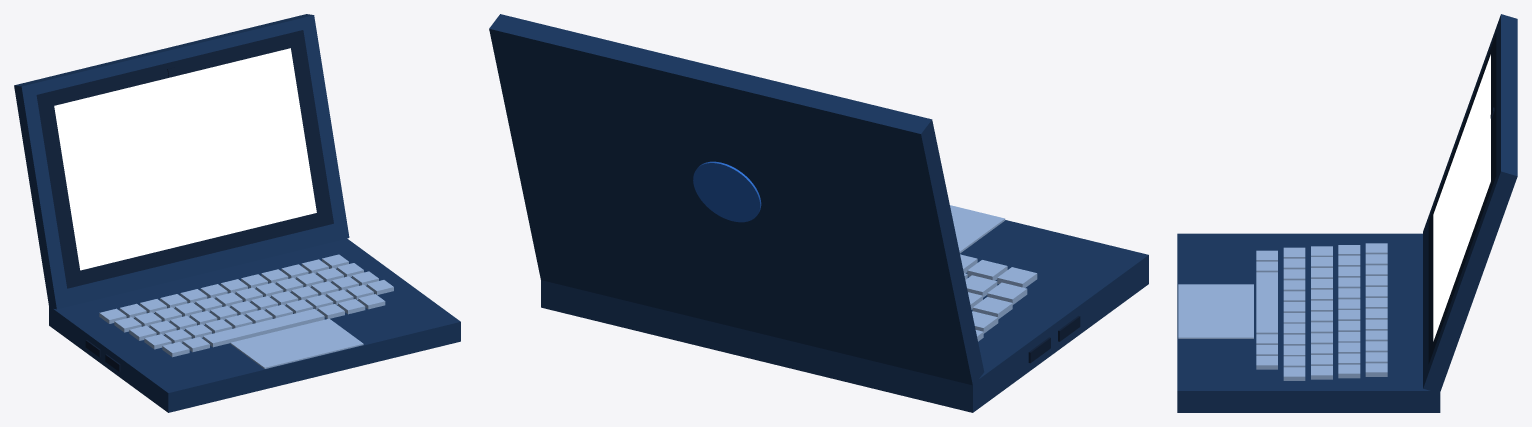
Rendered from laptop.glb.
3 renders of one model, left to right at view 1: azimuth 30°, elevation 25°; view 2: azimuth 150°, elevation 25°; view 3: azimuth 270°, elevation 25°, orthographic. The views are drawn at different scales.
Visible parts, largest first — view 1: screen, base, lid, bezel, trackpad, spacebar; view 2: lid, base, logo, trackpad; view 3: base, lid, screen, trackpad, bezel, spacebar, key1_11, key0_11, key3_11.
Boxes of the visible parts, bbox=[...] form: screen: bbox=[54, 48, 316, 270]; base: bbox=[49, 238, 460, 412]; lid: bbox=[14, 14, 349, 309]; bezel: bbox=[36, 30, 333, 288]; trackpad: bbox=[230, 318, 363, 368]; spacebar: bbox=[203, 309, 324, 347]; lid: bbox=[489, 14, 984, 386]; base: bbox=[541, 220, 1148, 412]; logo: bbox=[693, 161, 761, 222]; trackpad: bbox=[950, 205, 1005, 253]; base: bbox=[1177, 233, 1440, 412]; lid: bbox=[1423, 14, 1517, 392]; screen: bbox=[1433, 54, 1490, 341]; trackpad: bbox=[1178, 284, 1253, 338]; bezel: bbox=[1428, 33, 1496, 363]; spacebar: bbox=[1256, 272, 1277, 334]; key1_11: bbox=[1338, 364, 1360, 378]; key0_11: bbox=[1365, 363, 1387, 376]; key3_11: bbox=[1283, 367, 1305, 380].
Bounding box in the file's own units: 3.42 × 2.43 × 3.11.
